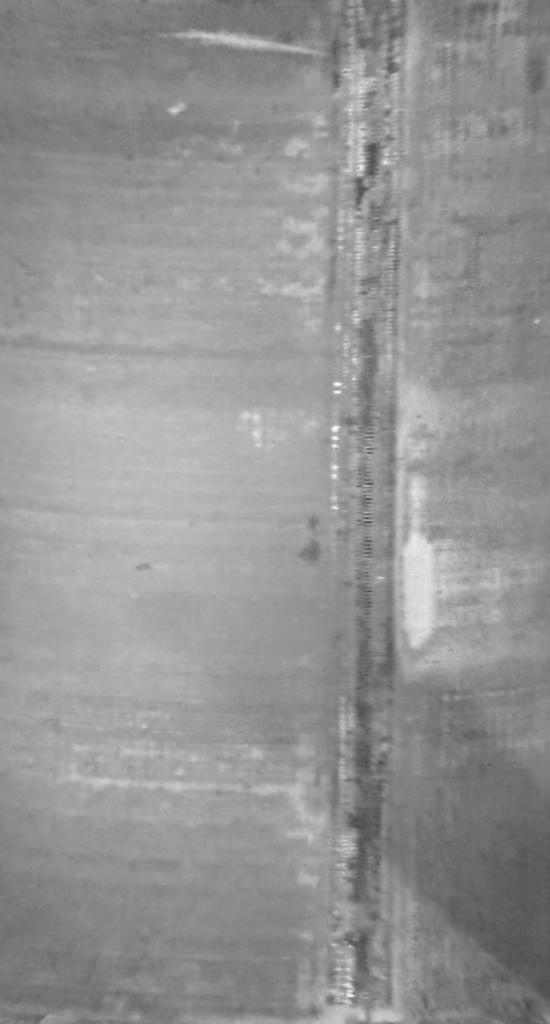splice: (320, 1, 407, 1023)
